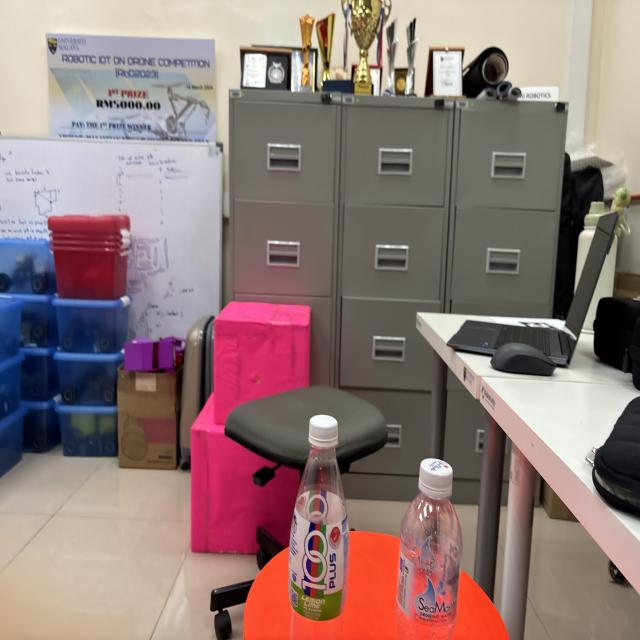plastic_bottle: (280, 410, 363, 640), (389, 448, 464, 640)
